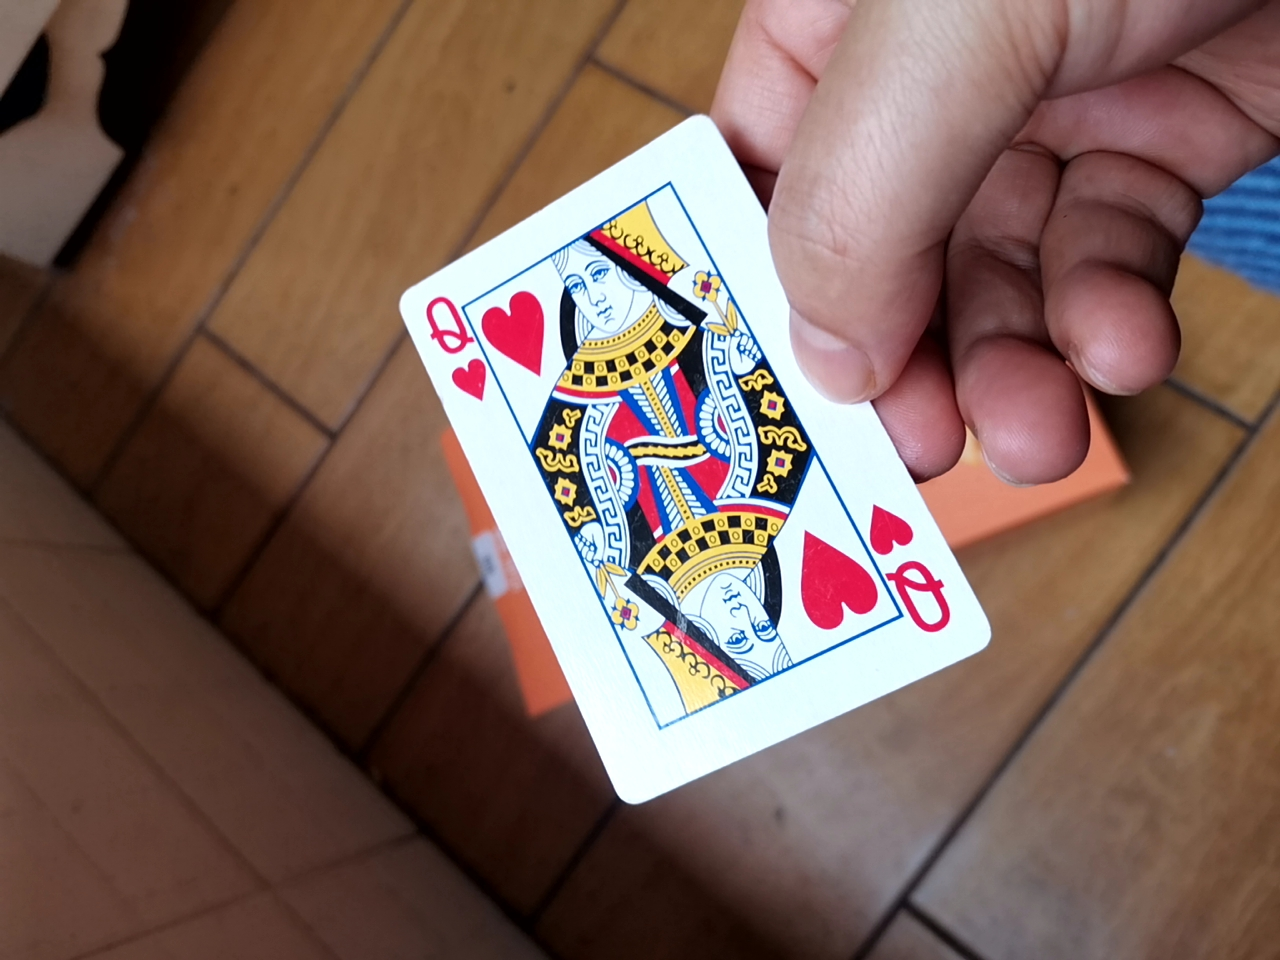hx q: (387, 103, 974, 833)
